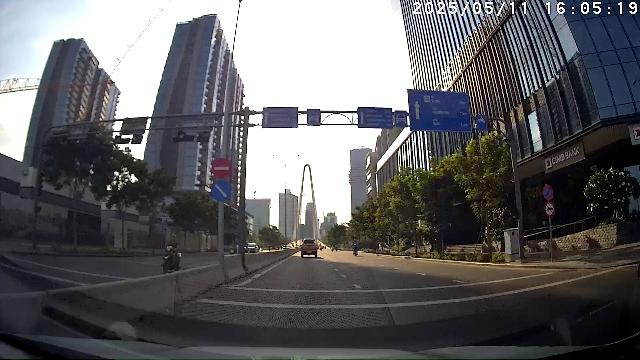102-cam-di-nguoc-chieu: (212, 158, 232, 178)
130-cam-dung-va-do-xe: (542, 184, 554, 200)
302a-huong-phai-di-vong-chuong-ngai-vat-1: (212, 179, 232, 201)
